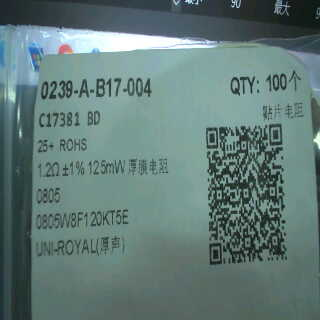1.2R: (37, 161, 59, 207)
